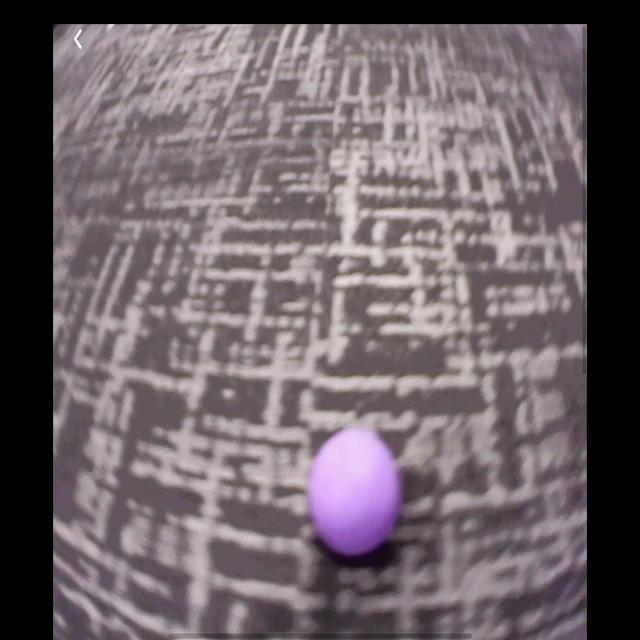ball: (310, 433, 403, 555)
